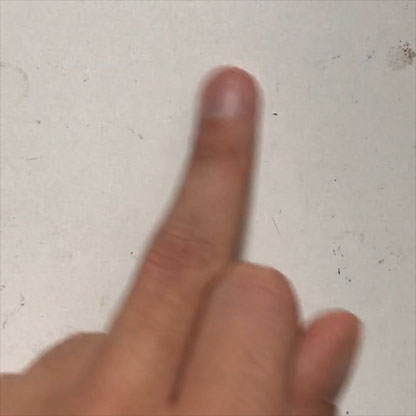fingertip: (190, 58, 263, 124)
